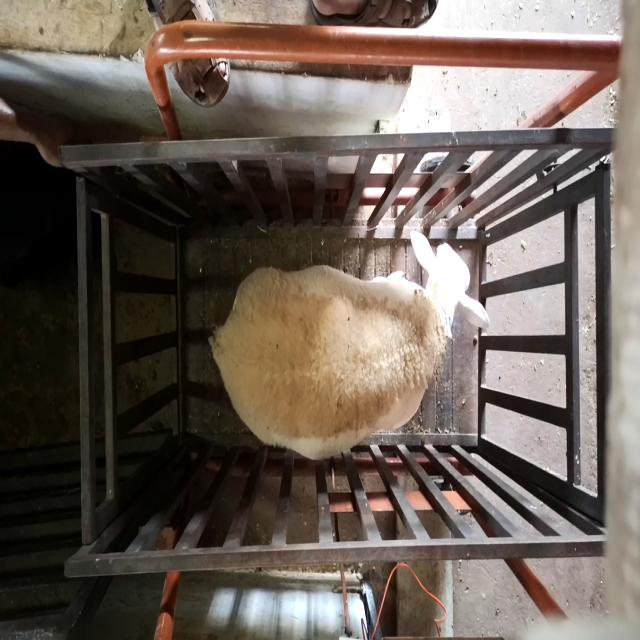sheep: (206, 230, 491, 461)
